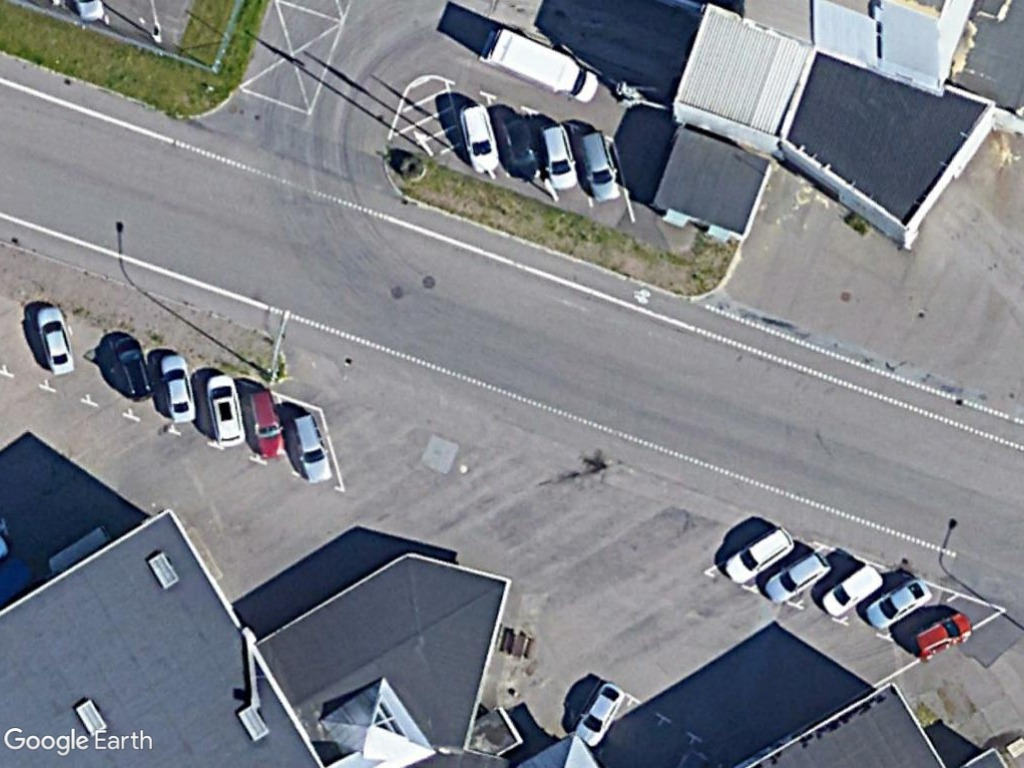car: (717, 523, 798, 588), (864, 573, 938, 634), (761, 547, 835, 605), (568, 678, 628, 748), (32, 302, 81, 382), (908, 609, 977, 664), (288, 408, 334, 488), (577, 126, 623, 205), (455, 98, 502, 175), (159, 348, 204, 428), (537, 117, 581, 196), (202, 372, 245, 449), (244, 384, 287, 461), (113, 329, 155, 404)
truck: (475, 28, 603, 106)
van: (816, 562, 888, 620)
